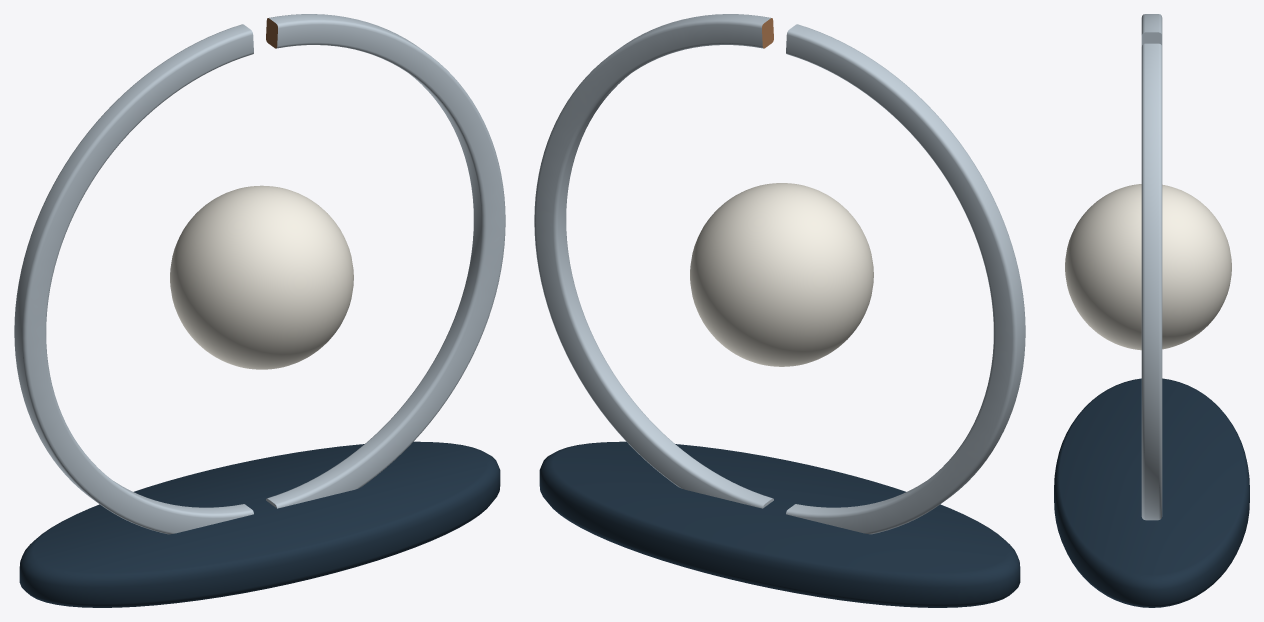
The model's file is welcome-orbit-v1.glb.
3 renders of one model, left to right at view 1: azimuth 30°, elevation 25°; view 2: azimuth 150°, elevation 25°; view 3: azimuth 270°, elevation 25°, orthographic. The views are drawn at different scales.
Visible parts, largest first — view 1: welcome_base, welcome_core, welcome_ring_left, welcome_ring_right; view 2: welcome_base, welcome_core, welcome_ring_left, welcome_ring_right; view 3: welcome_base, welcome_core, welcome_ring_right, welcome_ring_left.
Boxes of the visible parts, <box> form: welcome_base: <box>19,441,500,607</box>; welcome_core: <box>170,185,353,369</box>; welcome_ring_left: <box>14,24,253,534</box>; welcome_ring_right: <box>266,14,505,508</box>; welcome_base: <box>539,441,1020,607</box>; welcome_core: <box>690,183,873,366</box>; welcome_ring_left: <box>786,24,1025,534</box>; welcome_ring_right: <box>534,14,773,508</box>; welcome_base: <box>1054,378,1249,607</box>; welcome_core: <box>1065,184,1231,350</box>; welcome_ring_right: <box>1141,43,1162,520</box>; welcome_ring_left: <box>1141,14,1162,46</box>.
Bounding box in the file's own units: 1.73 × 1.78 × 0.67.
